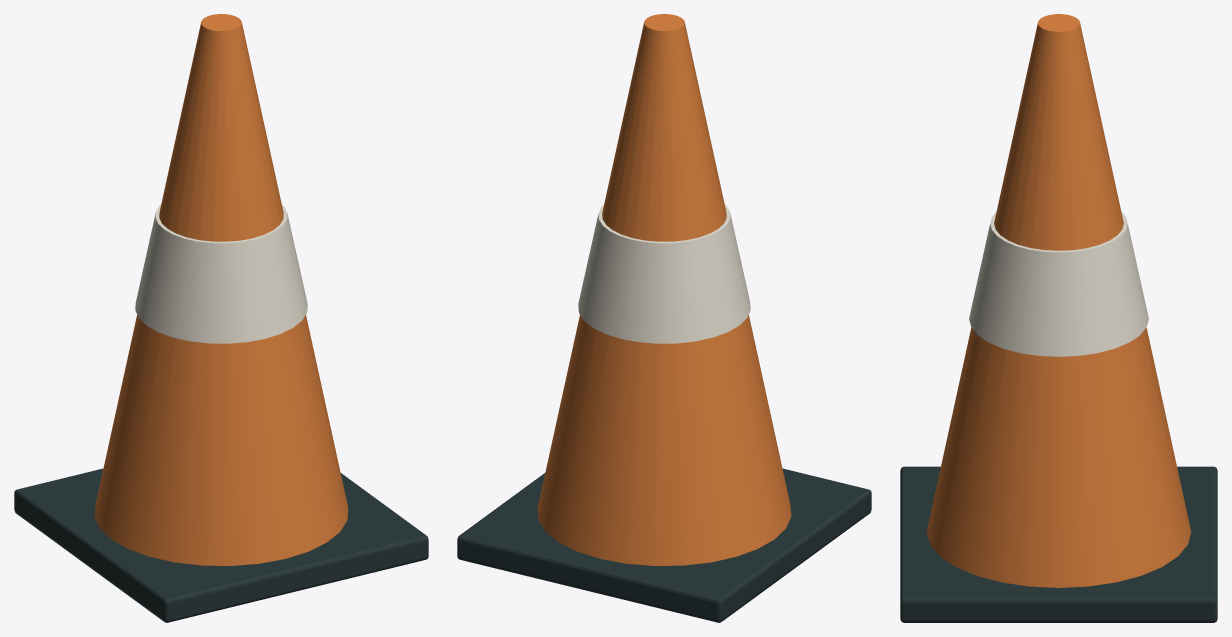
Rendered from wp-cone-de-chantier.glb.
The picture shows the model from 3 angles, left to right: view 1: azimuth 30°, elevation 25°; view 2: azimuth 150°, elevation 25°; view 3: azimuth 270°, elevation 25°; orthographic projection. The views are drawn at different scales.
Visible parts, largest first — view 1: wp-cone-de-chantier; view 2: wp-cone-de-chantier; view 3: wp-cone-de-chantier.
Part boxes in pixels (box(x1,y1,x2,y2)): wp-cone-de-chantier: box(14, 14, 428, 622); wp-cone-de-chantier: box(457, 14, 871, 622); wp-cone-de-chantier: box(900, 14, 1217, 622).
Bounding box in the file's own units: 0.35 × 0.65 × 0.35.
